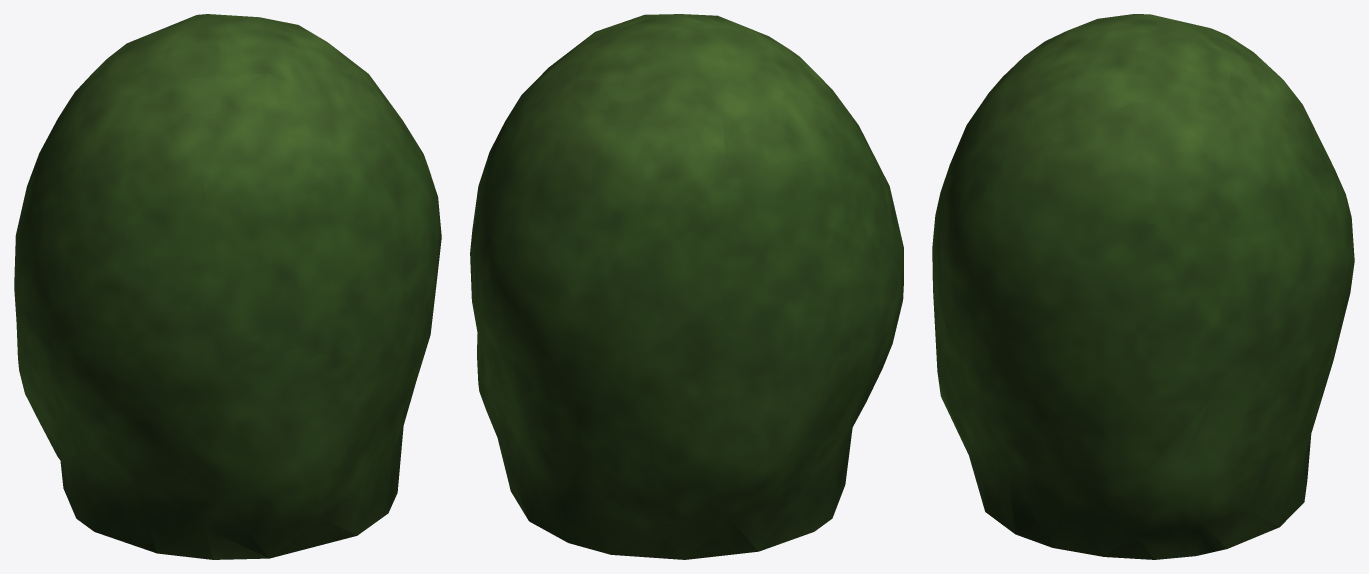
Rendered from bui_cay_tron.mid.glb.
The picture shows the model from 3 angles, left to right: view 1: azimuth 30°, elevation 25°; view 2: azimuth 150°, elevation 25°; view 3: azimuth 270°, elevation 25°; orthographic projection.
Parts seen in each view (by area): view 1: bui_cay_tron; view 2: bui_cay_tron; view 3: bui_cay_tron.
Boxes of the visible parts, x1=… form: bui_cay_tron: x1=14, y1=14, x2=441, y2=559; bui_cay_tron: x1=470, y1=14, x2=903, y2=559; bui_cay_tron: x1=932, y1=14, x2=1354, y2=559.
Size of the model in its own units: 1.45 by 1.73 by 1.42.
1 material, 1 textured.
